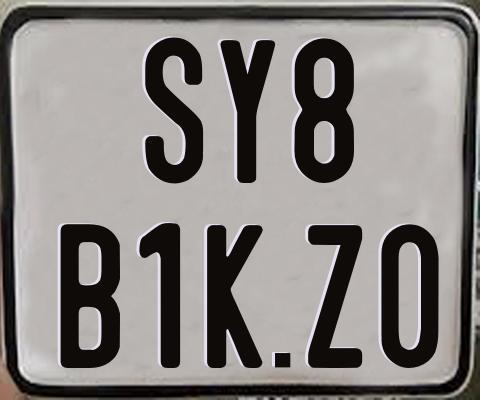0: (379, 222, 437, 367)
1: (139, 223, 183, 370)
8: (294, 37, 354, 184)
B: (58, 222, 117, 368)
K: (207, 223, 269, 371)
S: (145, 35, 203, 188)
Y: (219, 38, 275, 182)
Z: (307, 224, 363, 369)
